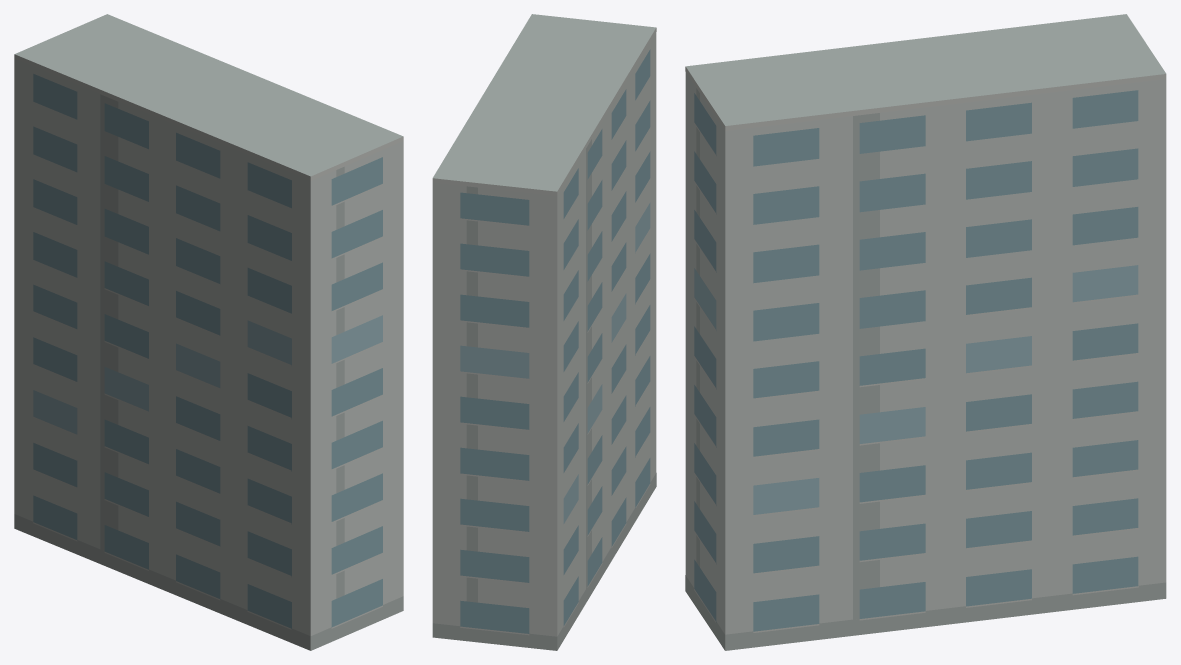
The model's file is residential-2522b147-57b4-44d5-b590-9f8395363381.glb.
3 renders of one model, left to right at view 1: azimuth 30°, elevation 25°; view 2: azimuth 150°, elevation 25°; view 3: azimuth 270°, elevation 25°, orthographic. The views are drawn at different scales.
Visible parts, largest first — view 1: residential-2522b147-57b4-44d5-b590-9f8395363381.tmp; view 2: residential-2522b147-57b4-44d5-b590-9f8395363381.tmp; view 3: residential-2522b147-57b4-44d5-b590-9f8395363381.tmp.
Part boxes in pixels (bbox=[...]): residential-2522b147-57b4-44d5-b590-9f8395363381.tmp: bbox=[14, 14, 403, 650]; residential-2522b147-57b4-44d5-b590-9f8395363381.tmp: bbox=[432, 14, 656, 650]; residential-2522b147-57b4-44d5-b590-9f8395363381.tmp: bbox=[685, 14, 1166, 650].
Size of the model in its own units: 11.46 by 25 by 20.77.
